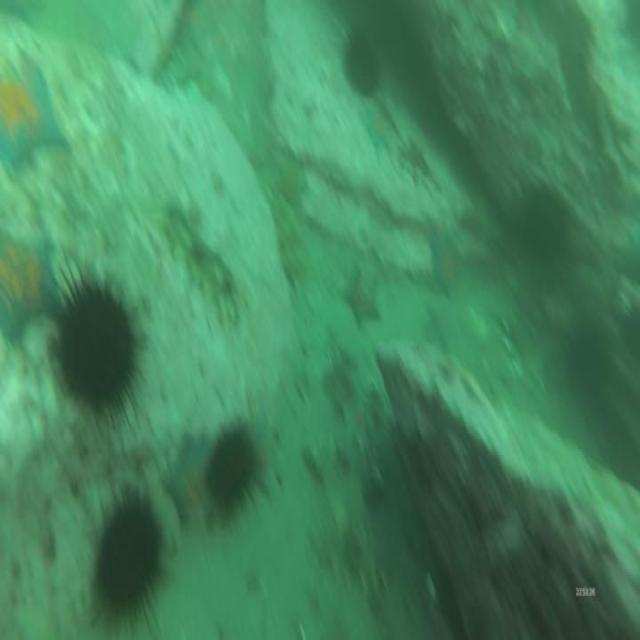echinus: (46, 259, 140, 433), (89, 479, 163, 637), (199, 414, 266, 533), (517, 182, 569, 273), (564, 319, 612, 409), (339, 28, 385, 103)
holothurian: (160, 206, 238, 327), (313, 520, 392, 604), (268, 186, 312, 291)
starfish: (0, 56, 77, 178), (0, 226, 66, 348), (161, 425, 211, 533), (427, 226, 464, 302), (344, 260, 382, 326), (420, 298, 457, 356), (362, 103, 397, 156)
